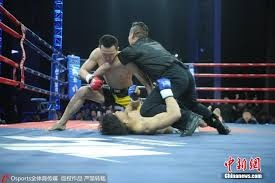falling: (96, 87, 206, 136)
